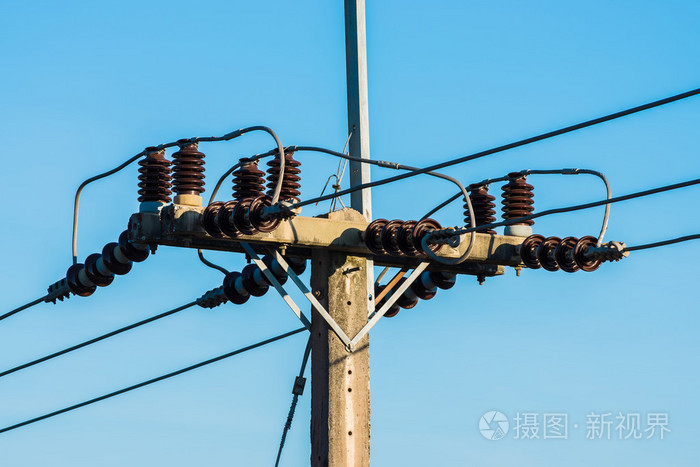insulator: (67, 235, 141, 298), (372, 267, 449, 317), (221, 257, 300, 305), (201, 196, 277, 241), (521, 235, 601, 274), (365, 217, 441, 255)
